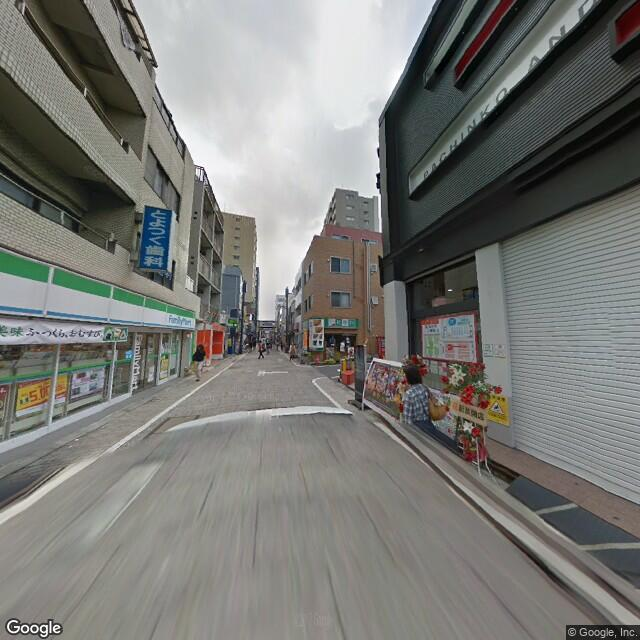family_mart: (1, 246, 196, 332)
